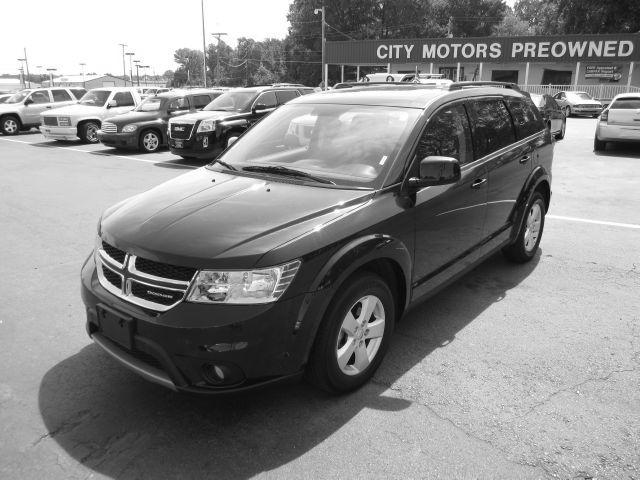car: (80, 89, 555, 403)
